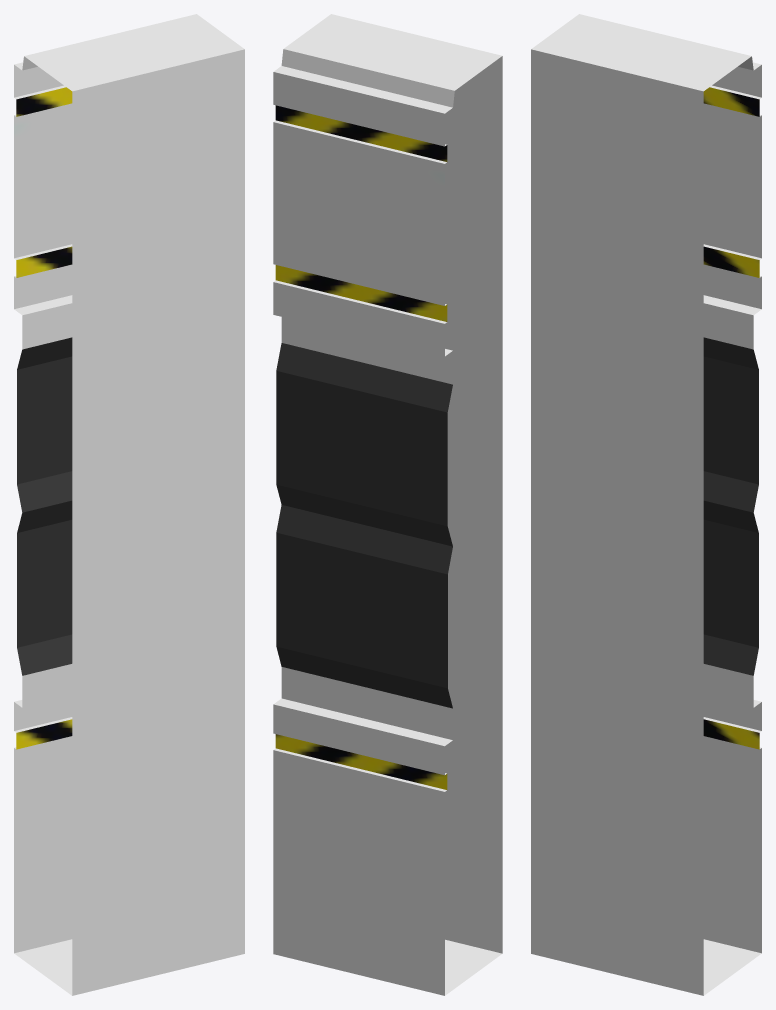
Rendered from F_Wall_02.fbx.
3 views of the same model, side by side, from view 1: azimuth 30°, elevation 25°; view 2: azimuth 150°, elevation 25°; view 3: azimuth 330°, elevation 25° (orthographic).
Parts seen in each view (by area): view 1: F_Wall_02; view 2: F_Wall_02; view 3: F_Wall_02.
Boxes of the visible parts, bbox=[...] form: F_Wall_02: bbox=[14, 14, 244, 995]; F_Wall_02: bbox=[273, 14, 502, 995]; F_Wall_02: bbox=[531, 14, 761, 995].
Size of the model in its own units: 59.93 by 300 by 34.95.
